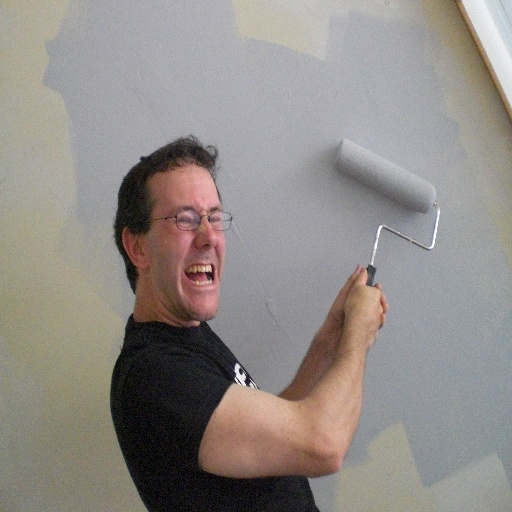hand: (336, 261, 387, 337)
